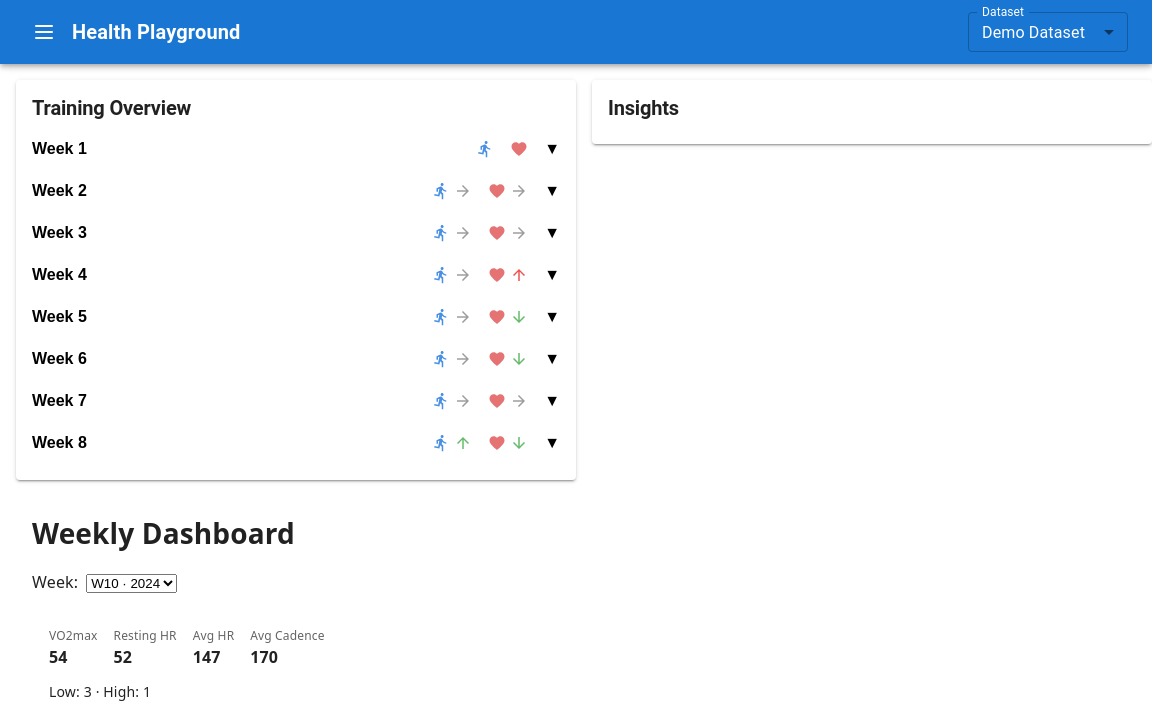
Test case: Top Bar Navigation Menu — additional behavior › Tab key on the focused menu item closes the menu
Click the button with test id "nav-menu-trigger" at (44, 32), box [24,12,64,52]
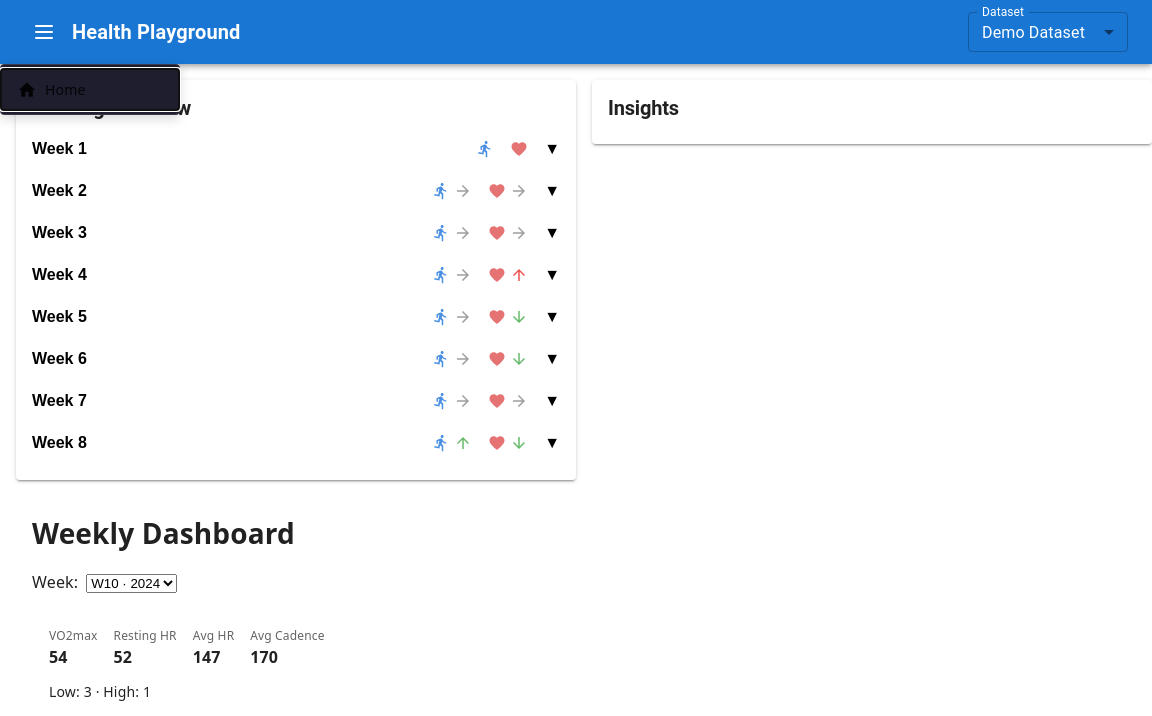
Expected: the menu with test id "nav-menu" is shown, [0,64,180,115]
Press Tab in the menu item with test id "nav-menu-item-home", box [17,80,85,100]
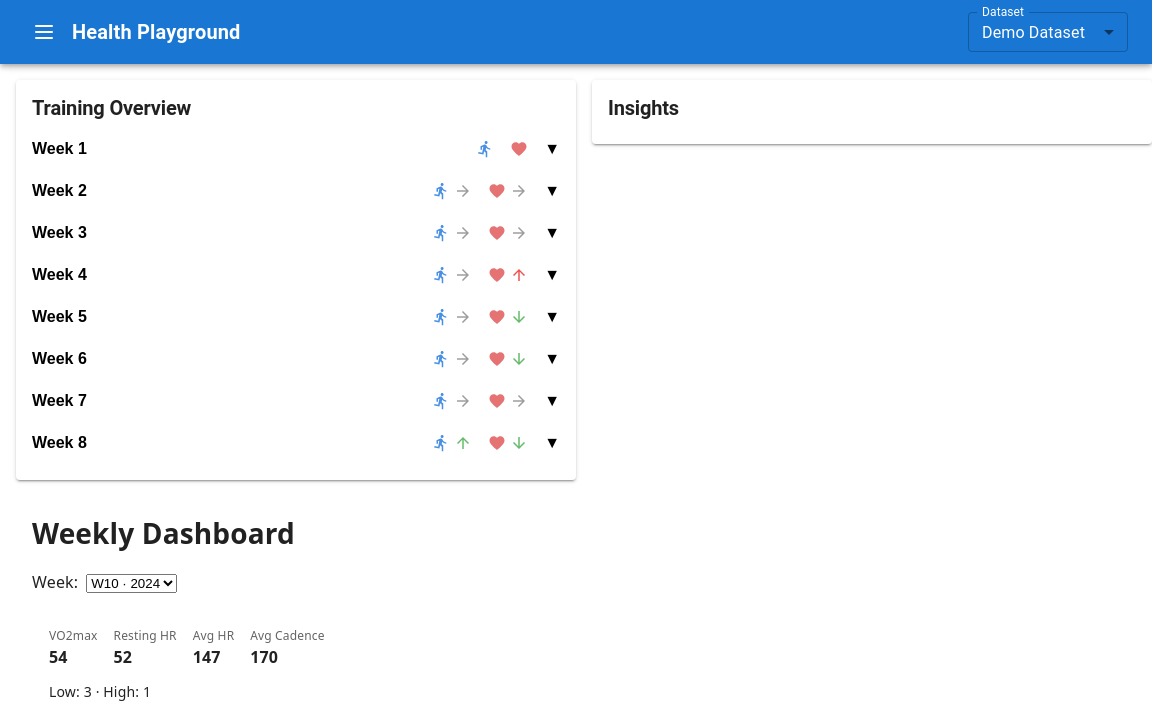
Expected: the menu with test id "nav-menu" is gone
